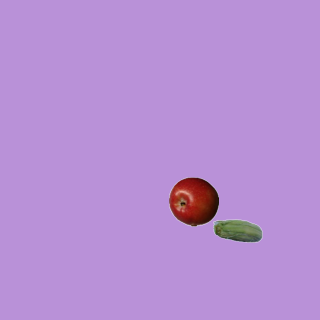Apple Braeburn: (168, 176, 218, 226)
Corn Husk: (212, 207, 262, 257)
